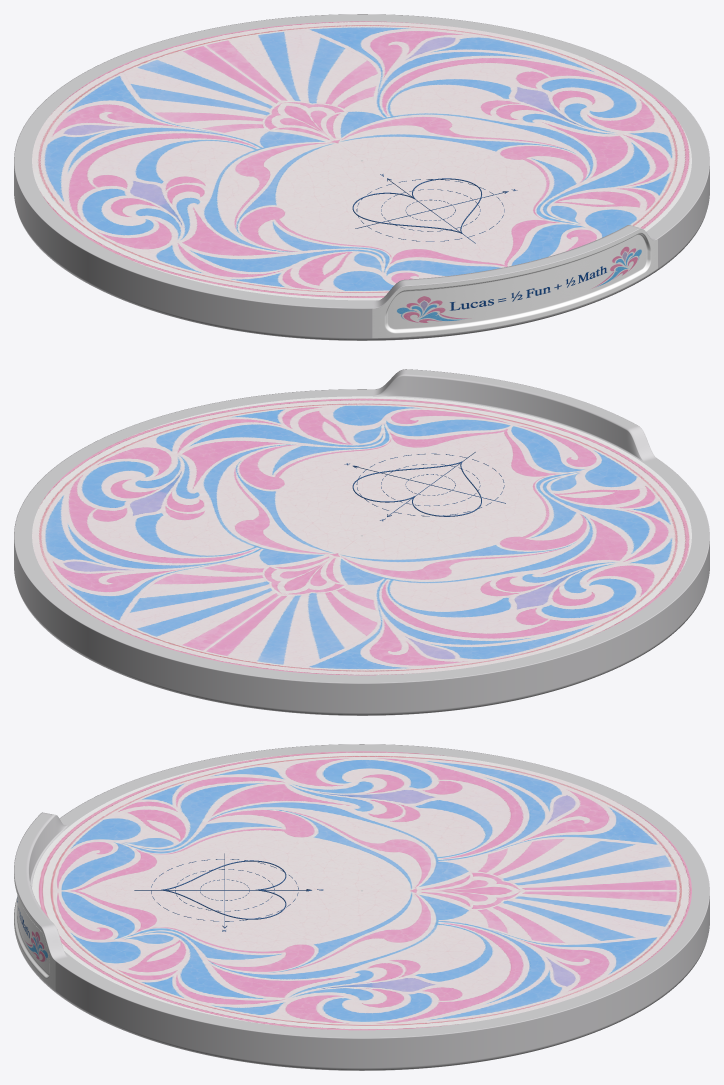
3 views of the same model, one above another, from view 1: azimuth 30°, elevation 25°; view 2: azimuth 150°, elevation 25°; view 3: azimuth 270°, elevation 25° (orthographic).
Parts seen in each view (by area): view 1: island_paving__Mucha_glazed_ceramic, island_base__Smooth_plaster_porcelain, island_math__Cobalt_serif_enamel; view 2: island_paving__Mucha_glazed_ceramic, island_base__Smooth_plaster_porcelain, island_math__Cobalt_serif_enamel; view 3: island_paving__Mucha_glazed_ceramic, island_base__Smooth_plaster_porcelain, island_math__Cobalt_serif_enamel.
Part boxes in pixels (x1=…): island_paving__Mucha_glazed_ceramic: x1=32, y1=21, x2=691, y2=300; island_base__Smooth_plaster_porcelain: x1=14, y1=14, x2=709, y2=340; island_math__Cobalt_serif_enamel: x1=352, y1=174, x2=517, y2=243; island_paving__Mucha_glazed_ceramic: x1=32, y1=396, x2=691, y2=675; island_base__Smooth_plaster_porcelain: x1=14, y1=369, x2=709, y2=715; island_math__Cobalt_serif_enamel: x1=344, y1=452, x2=505, y2=521; island_paving__Mucha_glazed_ceramic: x1=32, y1=751, x2=691, y2=1030; island_base__Smooth_plaster_porcelain: x1=14, y1=744, x2=709, y2=1070; island_math__Cobalt_serif_enamel: x1=134, y1=853, x2=323, y2=931.
Bounding box in the file's own units: 10.4 × 0.91 × 10.4.
Materials: 4 (2 with a texture image).
